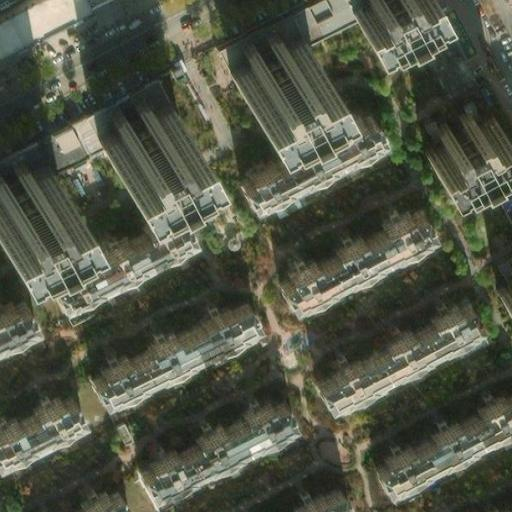building: (307, 286, 467, 386), (119, 382, 279, 481), (84, 289, 244, 388), (265, 197, 425, 296), (43, 194, 203, 293), (359, 383, 512, 482), (223, 107, 366, 192), (208, 0, 348, 79), (453, 110, 512, 227), (61, 76, 150, 144), (0, 386, 74, 450), (220, 27, 298, 83), (86, 88, 164, 143), (404, 89, 480, 144), (234, 473, 332, 512), (31, 481, 116, 512), (0, 157, 45, 209), (340, 0, 393, 19)
